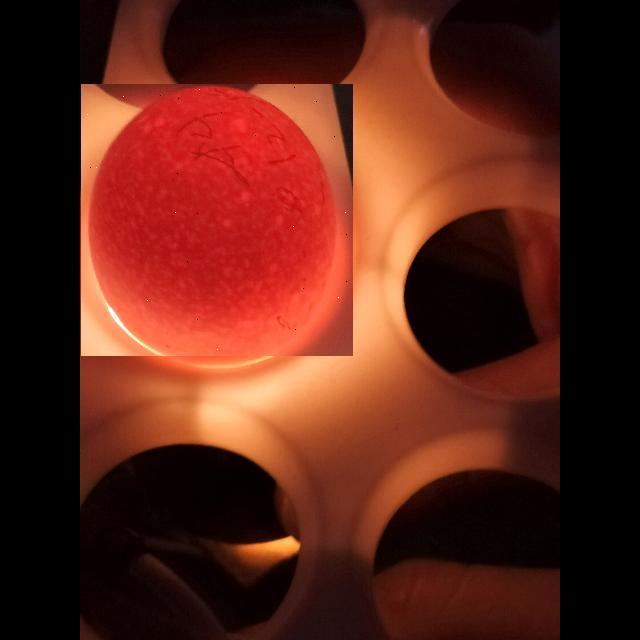Infertile: (81, 84, 353, 356)
